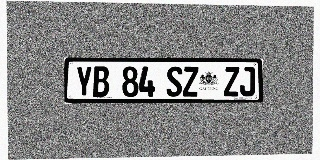4: (139, 66, 155, 97)
8: (122, 66, 138, 97)
B: (93, 66, 109, 97)
J: (240, 67, 255, 96)
S: (166, 66, 182, 97)
Y: (76, 66, 92, 97)
Z: (183, 66, 198, 97), (224, 67, 239, 96)
